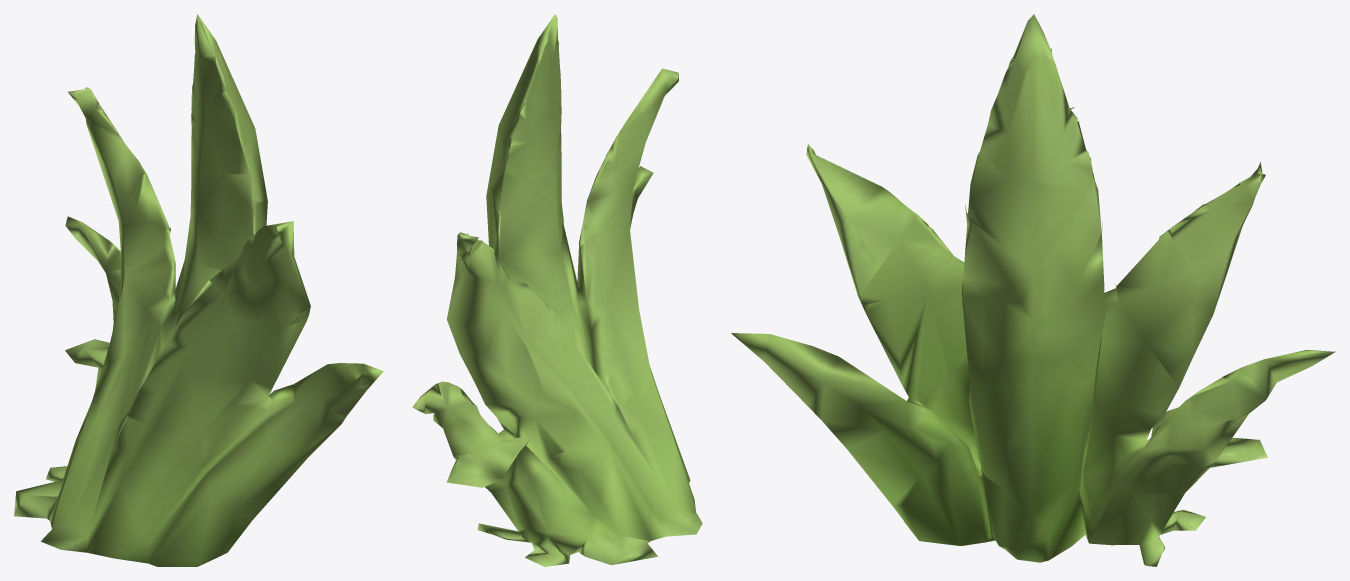
Rendered from green-plant.glb.
3 renders of one model, left to right at view 1: azimuth 30°, elevation 25°; view 2: azimuth 150°, elevation 25°; view 3: azimuth 270°, elevation 25°, orthographic. The views are drawn at different scales.
Parts seen in each view (by area): view 1: tripo_node_c19b7f7d-87ae-4fb1-b7d2-38a64d145c53; view 2: tripo_node_c19b7f7d-87ae-4fb1-b7d2-38a64d145c53; view 3: tripo_node_c19b7f7d-87ae-4fb1-b7d2-38a64d145c53.
Boxes of the visible parts, left/top/right/bottom form: tripo_node_c19b7f7d-87ae-4fb1-b7d2-38a64d145c53: left=14, top=14, right=383, bottom=566; tripo_node_c19b7f7d-87ae-4fb1-b7d2-38a64d145c53: left=412, top=14, right=702, bottom=566; tripo_node_c19b7f7d-87ae-4fb1-b7d2-38a64d145c53: left=731, top=14, right=1335, bottom=566.
Bounding box in the file's own units: 0.4518 × 0.9648 × 0.9783.
1 material, 1 textured.
